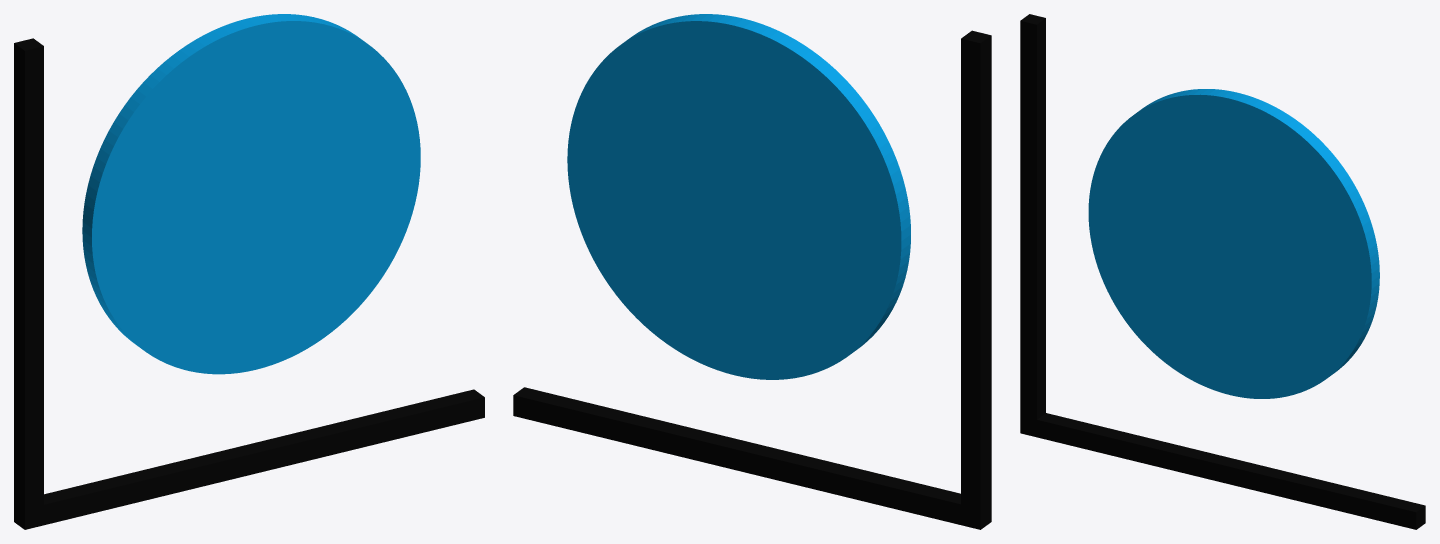
The model's file is circulo.gltf.
3 views of the same model, side by side, from view 1: azimuth 30°, elevation 25°; view 2: azimuth 150°, elevation 25°; view 3: azimuth 330°, elevation 25° (orthographic). The views are drawn at different scales.
Bounding box in the file's own units: 0.0559 × 0.0557 × 0.00328.
